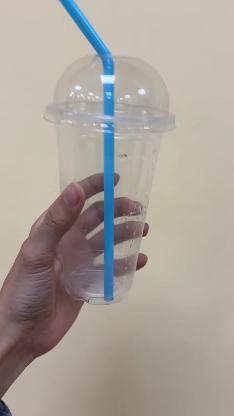Plastic Cup: (45, 51, 176, 307)
